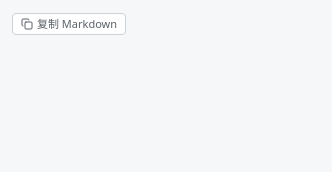
CopyMarkdownButton — 行为 › 点击后调用 clipboard.writeText 且显示"已复制"
Click the button with test id "copy-md-btn" at (69, 24), box [12,13,126,35]
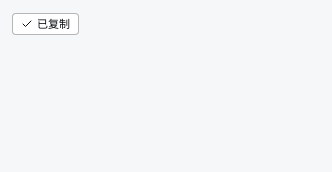
Result: the button with test id "copy-md-btn" reads "已复制" at [12,13,79,35]
